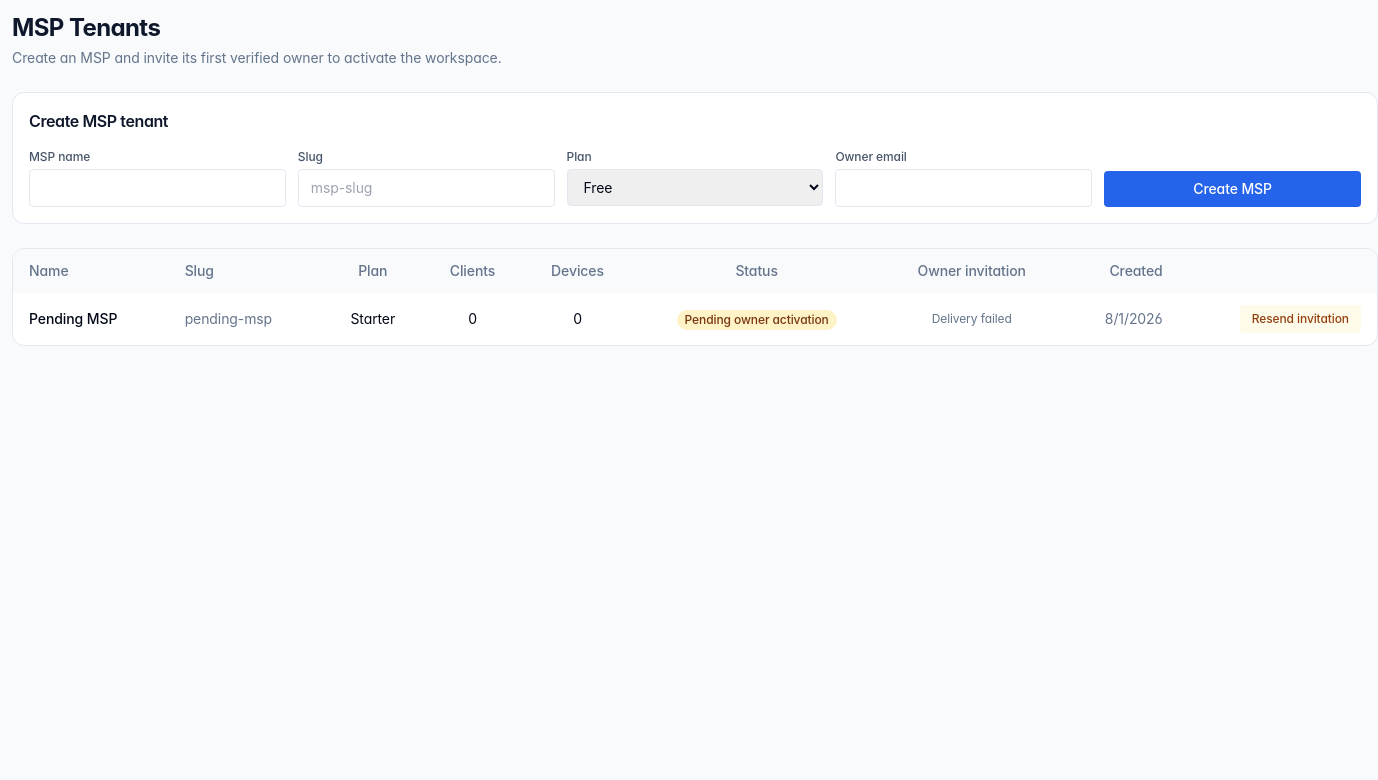
Test: platform MSP tenants › resends a pending owner invitation and reports delivery success
Click the button with aria-label "Resend invitation for Pending MSP". click: [1300, 319]
box: [1240,305,1361,333]
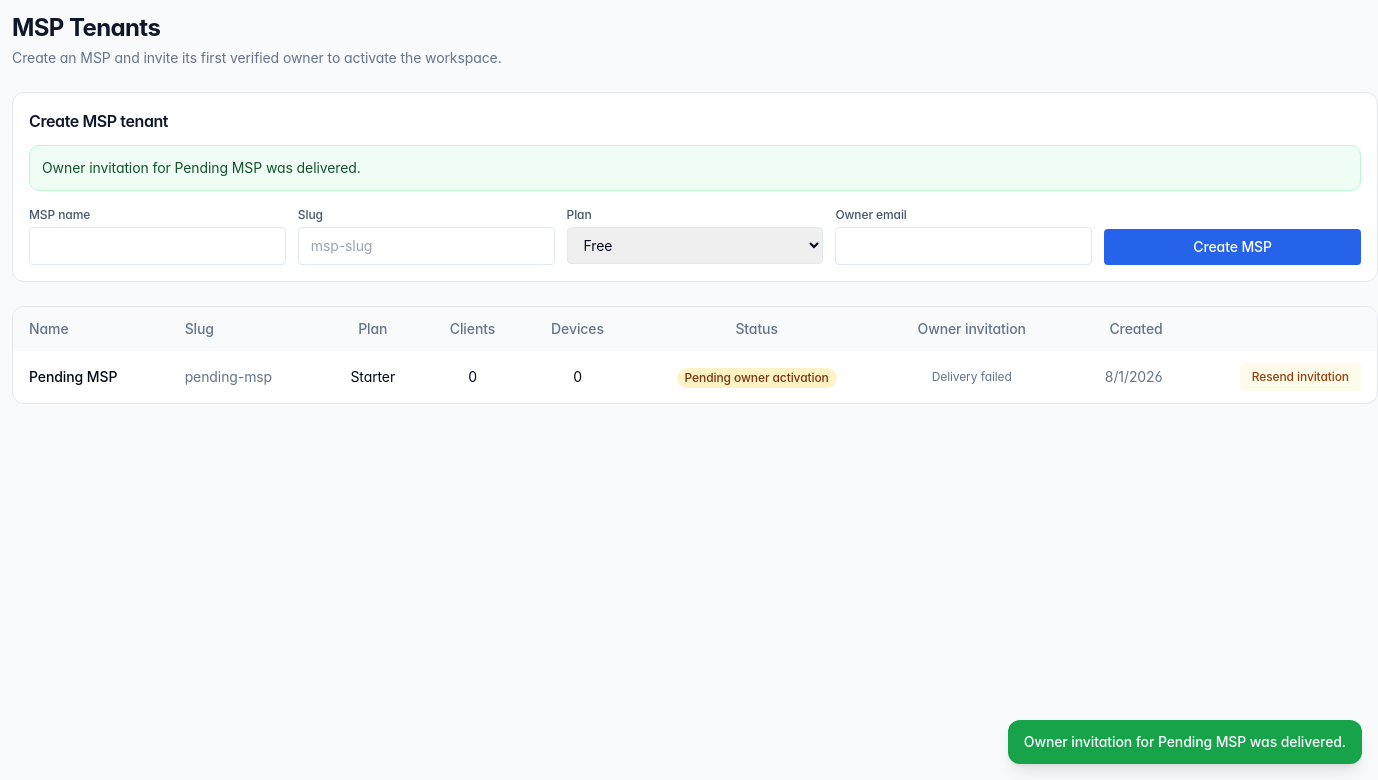
expect the message reads "Owner invitation for Pending MSP was delivered.": met, box [42,159,361,176]
